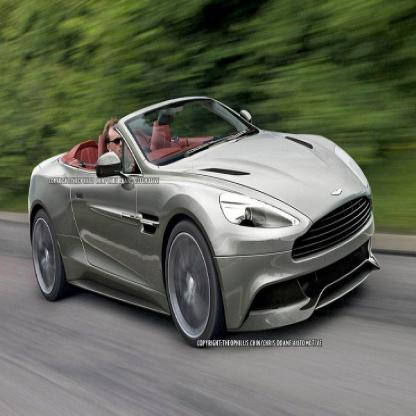Vehicle: (26, 92, 384, 354)
